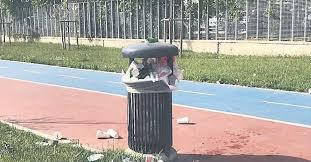Container: (122, 42, 181, 153)
Garbage: (124, 59, 170, 75), (95, 129, 122, 142), (176, 117, 191, 125)
